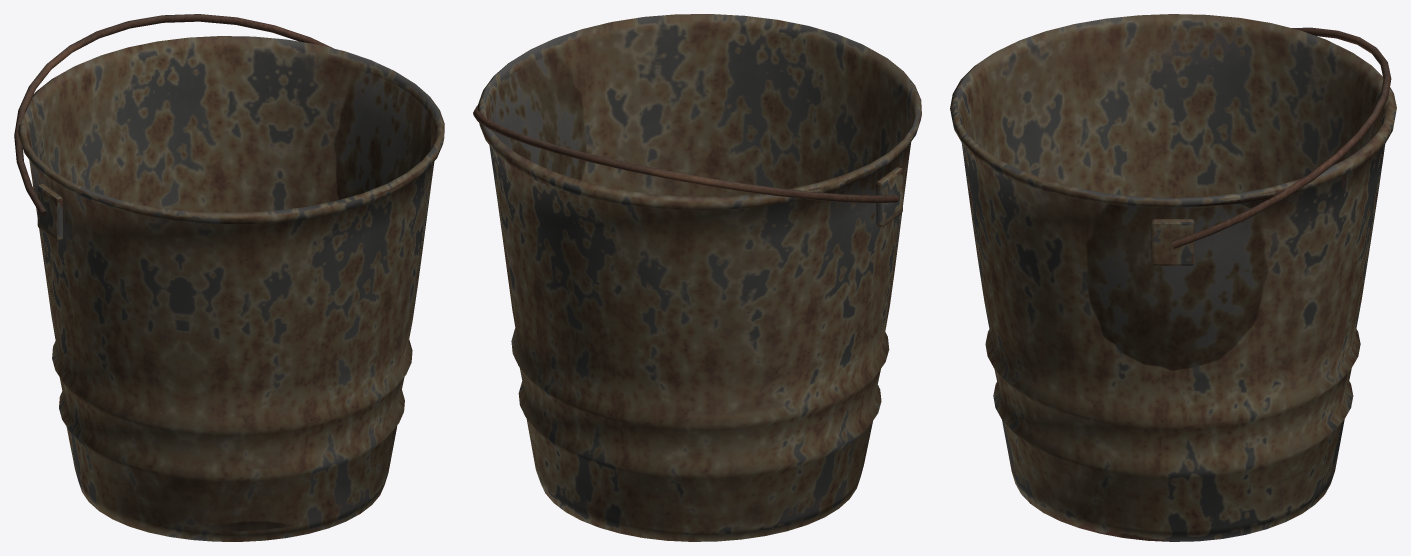
The model's file is Bucket.fbx.
3 views of the same model, side by side, from view 1: azimuth 30°, elevation 25°; view 2: azimuth 150°, elevation 25°; view 3: azimuth 270°, elevation 25° (orthographic). The views are drawn at different scales.
Visible parts, largest first — view 1: Bucket_Mesh; view 2: Bucket_Mesh; view 3: Bucket_Mesh.
Part boxes in pixels (x1,y1,x2,y2): Bucket_Mesh: (14,14,444,541); Bucket_Mesh: (473,14,921,541); Bucket_Mesh: (950,14,1396,541).
Bounding box in the file's own units: 0.3216 × 0.3081 × 0.3131.
